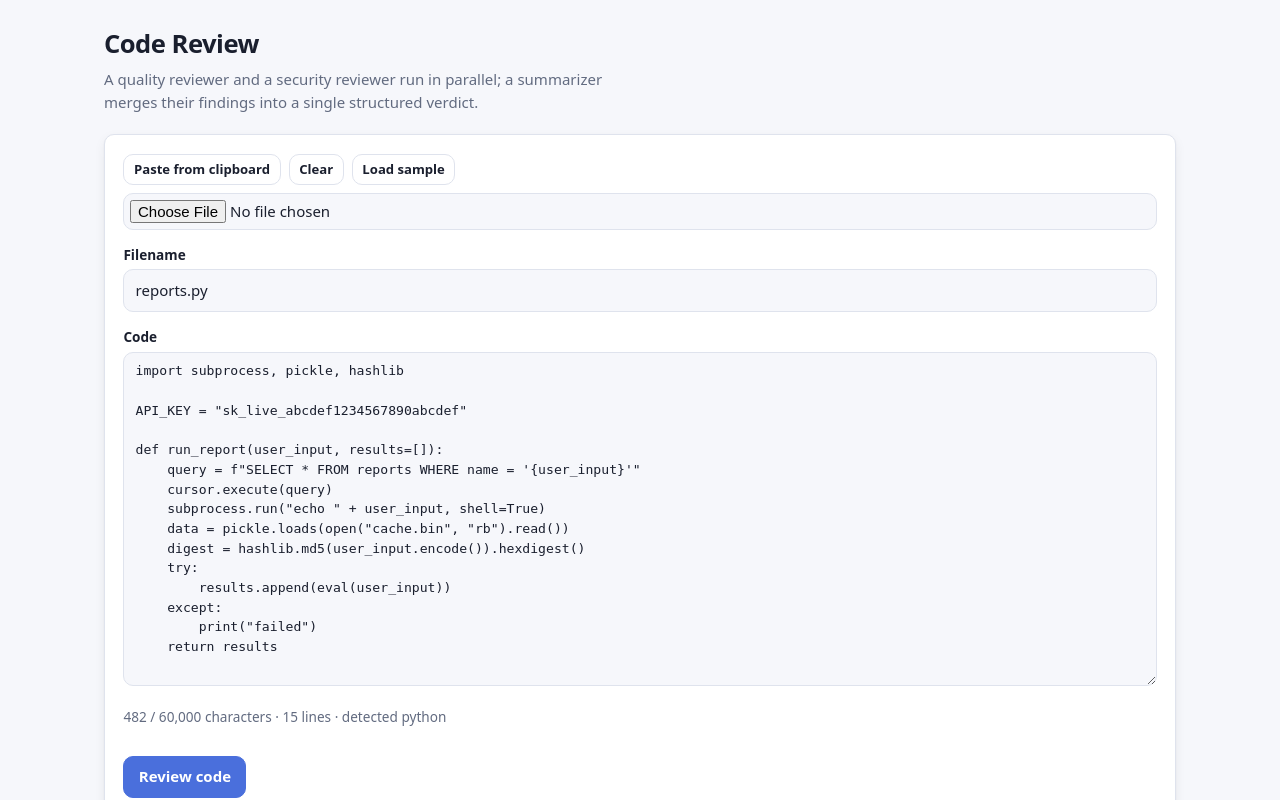
Test: CodeReview editor › cannot submit an empty editor
This screenshot has width=1280, height=800.
Click the button "Clear" at (316, 169), box [289,154,344,185]
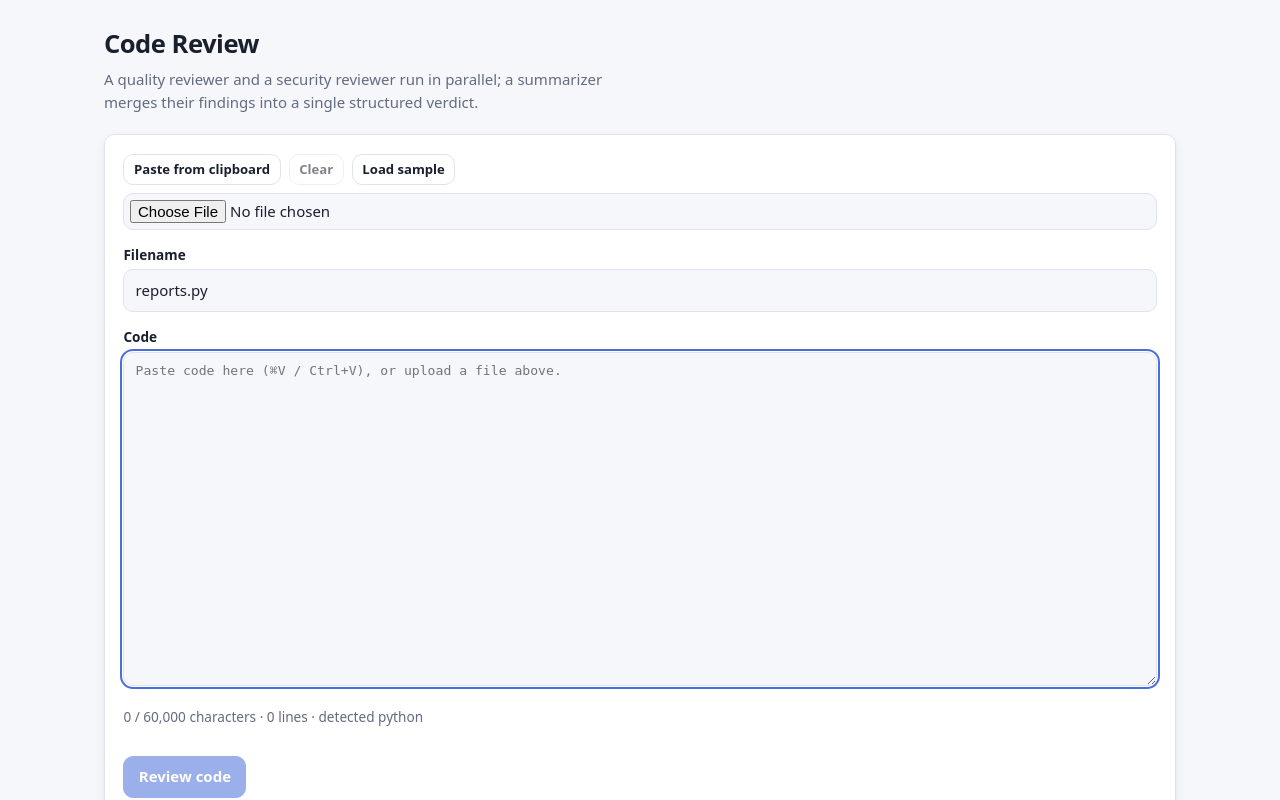
Now the button "Review code" is disabled, box [123,756,246,798]
